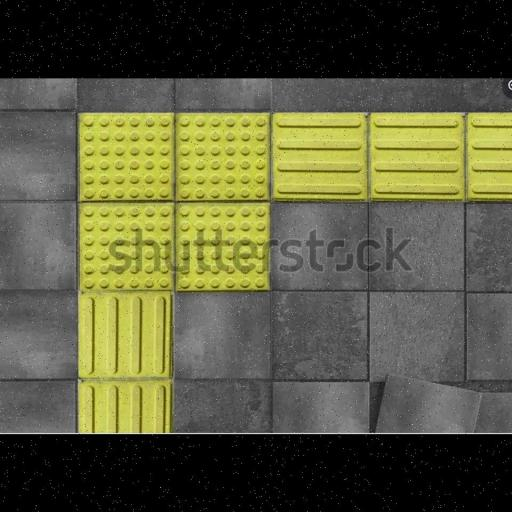dot: (79, 113, 176, 202), (77, 203, 174, 291), (176, 114, 271, 201), (176, 203, 269, 290)
line: (271, 114, 369, 201), (369, 113, 463, 200), (78, 294, 172, 379), (78, 379, 169, 433), (466, 112, 511, 199)
